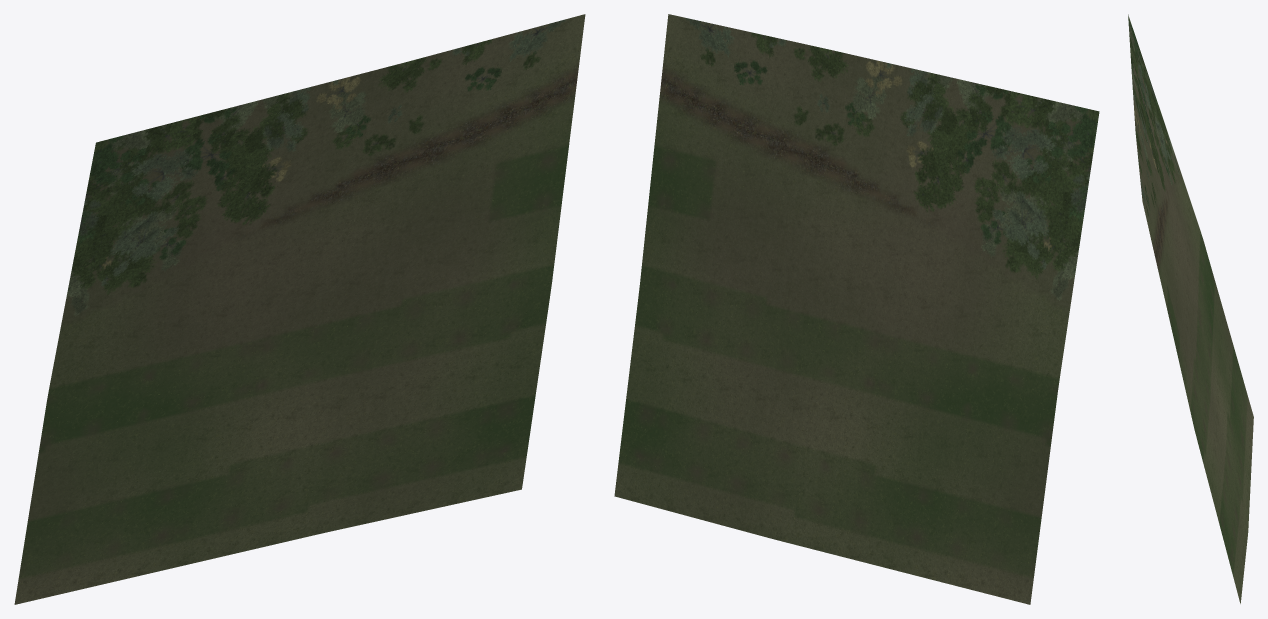
Rendered from terrain_core_02_02.obj.
The picture shows the model from 3 angles, left to right: view 1: azimuth 30°, elevation 25°; view 2: azimuth 150°, elevation 25°; view 3: azimuth 270°, elevation 25°; orthographic projection. The views are drawn at different scales.
Parts seen in each view (by area): view 1: terrain_core_02_02; view 2: terrain_core_02_02; view 3: terrain_core_02_02.
Part boxes in pixels (x1,y1,x2,y2): terrain_core_02_02: (14, 14, 585, 604); terrain_core_02_02: (614, 14, 1099, 604); terrain_core_02_02: (1128, 14, 1253, 603).
Bounding box in the file's own units: 32 × 32 × 9.05.
1 material, 1 textured.
